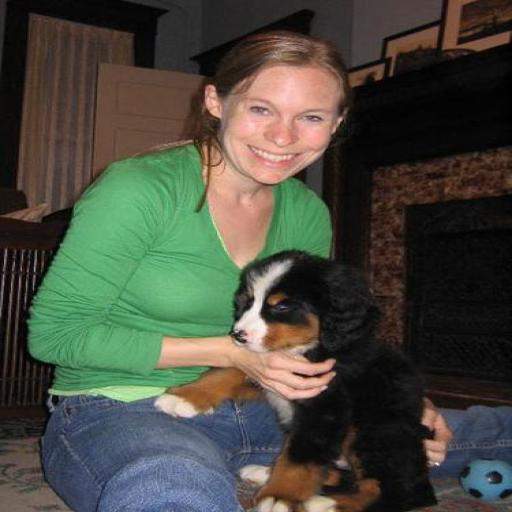dog_face: (235, 251, 375, 356)
